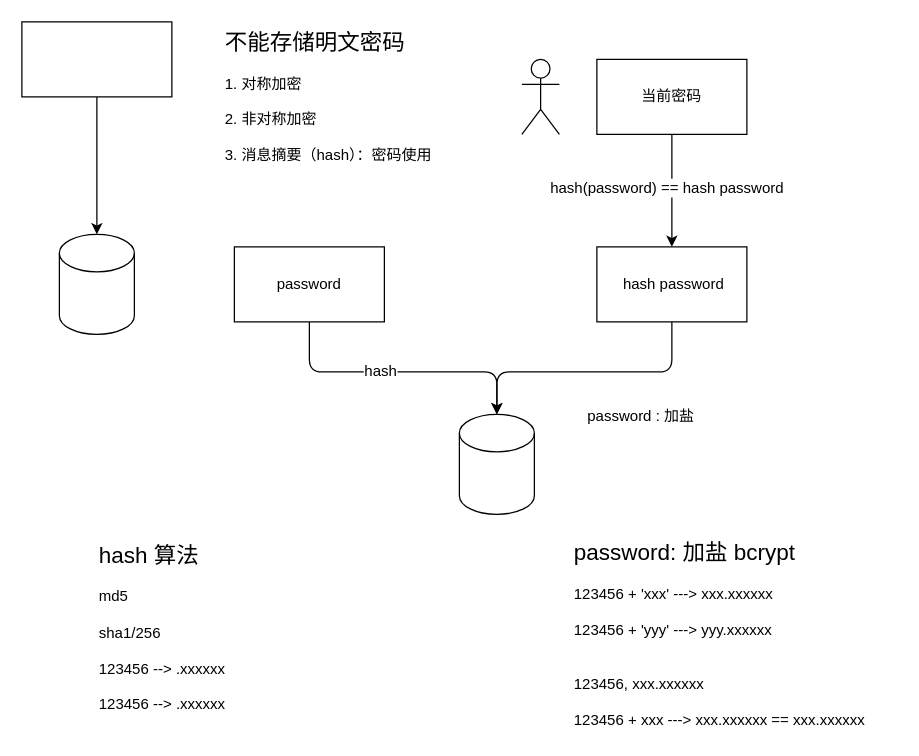
Some shapes in this 919 by 756 pixel diagram are drawn without their labels. The box of each missing label's shape, as (x1, y1, x2, y2) in pixels:
Actor: (521, 58, 559, 134)
user: (21, 21, 172, 97)
